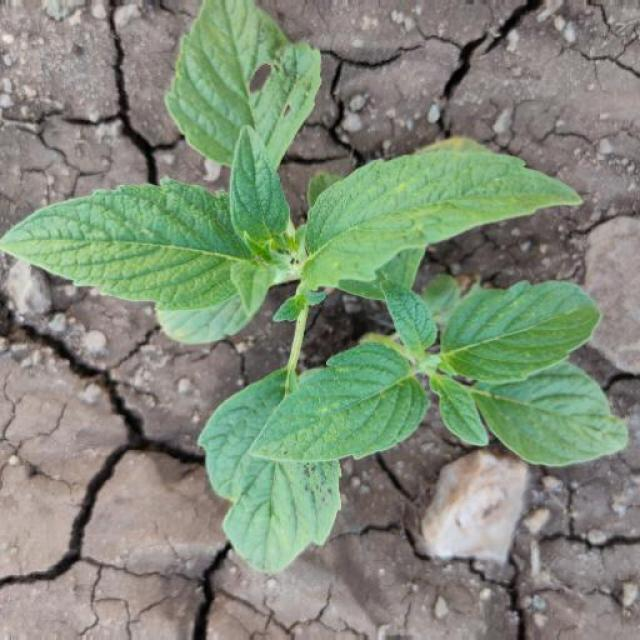crop: (2, 9, 630, 548)
